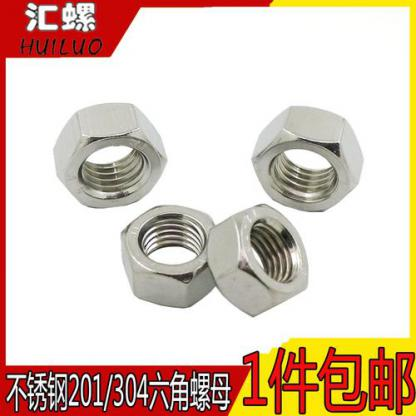FOD: (204, 200, 312, 320), (250, 103, 367, 212), (51, 101, 168, 209), (117, 202, 221, 311)
